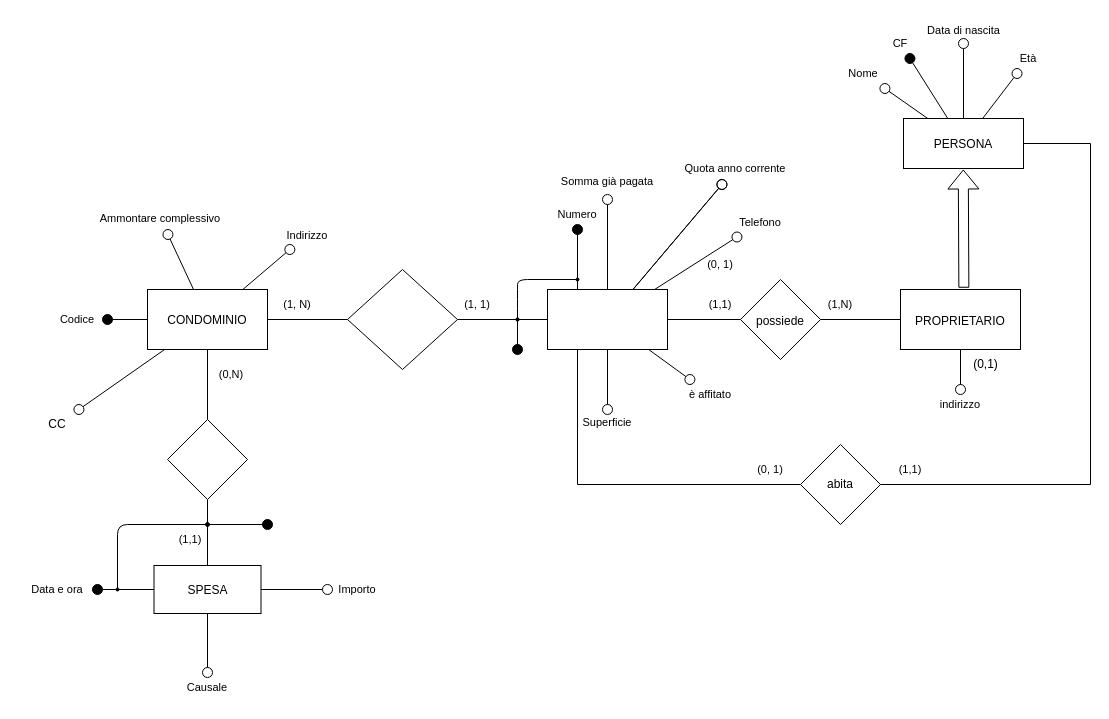
Image size: 1109x719. Some labels were removed from this diagram. Here are the shapes that lost their labels. From the top down, the centre of each, then its label:
point 402,319: appartenenza
point 607,319: APPARTAMENTO
point 207,459: paga
